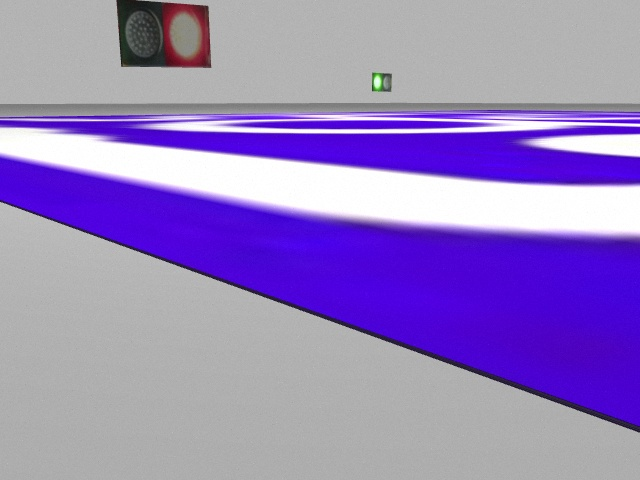red: (162, 2, 214, 66)
